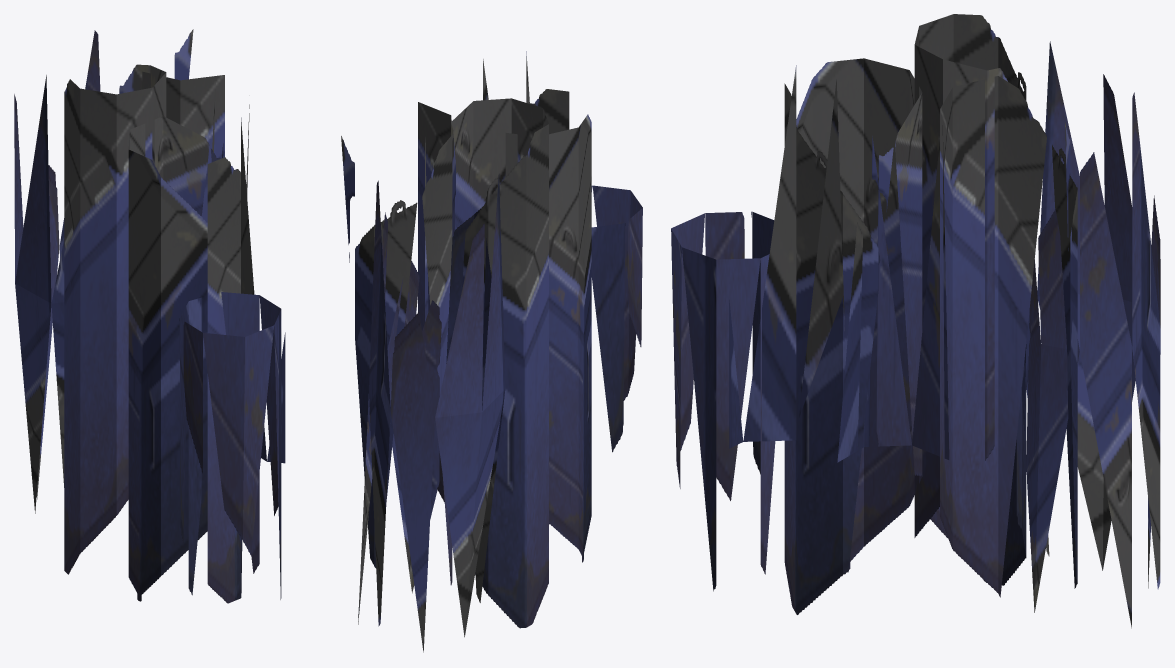
The picture shows the model from 3 angles, left to right: view 1: azimuth 30°, elevation 25°; view 2: azimuth 150°, elevation 25°; view 3: azimuth 270°, elevation 25°; orthographic projection. The views are drawn at different scales.
Bounding box in the file's own units: 0.9135 × 2.7 × 2.09.
